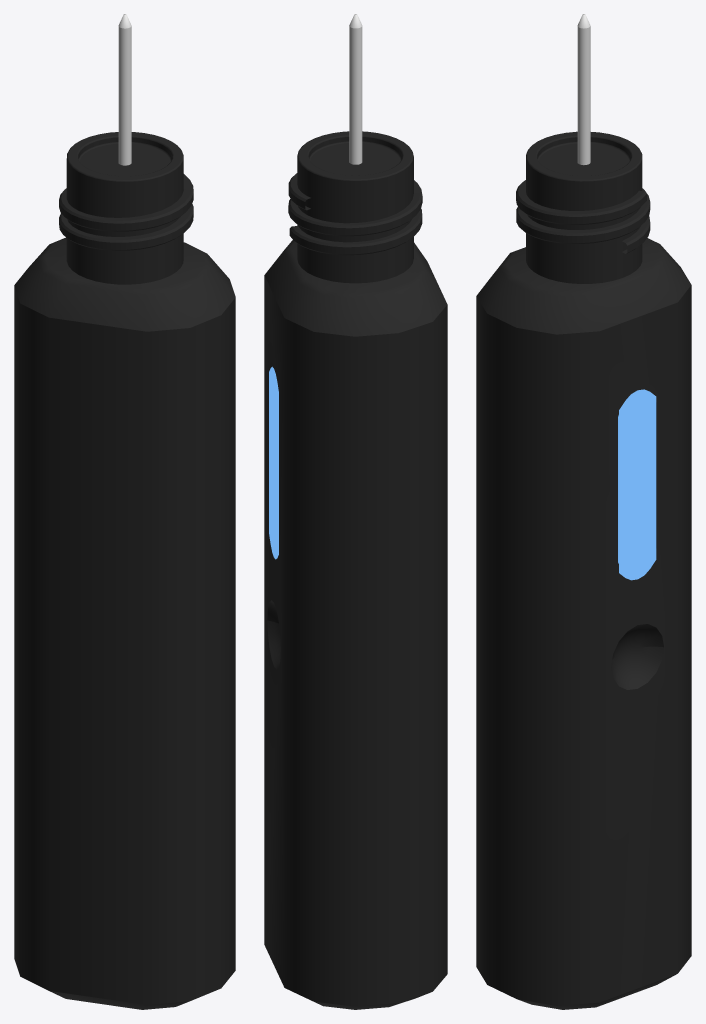
Rendered from hulecos-transformed.glb.
3 views of the same model, side by side, from view 1: azimuth 30°, elevation 25°; view 2: azimuth 150°, elevation 25°; view 3: azimuth 270°, elevation 25° (orthographic).
Visible parts, largest first — view 1: main, PIC; view 2: main, PIC, Plane.002; view 3: main, Plane.002, PIC.
Boxes of the visible parts, bbox=[...] form: main: bbox=[14, 132, 235, 1009]; PIC: bbox=[118, 14, 131, 165]; main: bbox=[264, 131, 447, 1009]; PIC: bbox=[349, 14, 362, 164]; Plane.002: bbox=[269, 366, 278, 559]; main: bbox=[476, 131, 691, 1009]; Plane.002: bbox=[618, 389, 656, 580]; PIC: bbox=[577, 14, 590, 165].
Bounding box in the file's own units: 0.8392 × 4.25 × 0.861.
